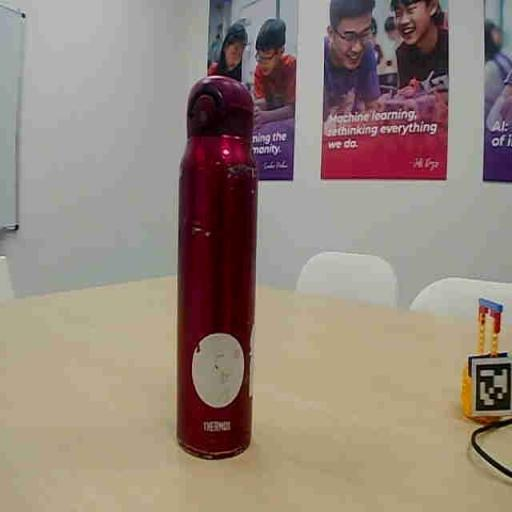bottle: (177, 77, 257, 458)
